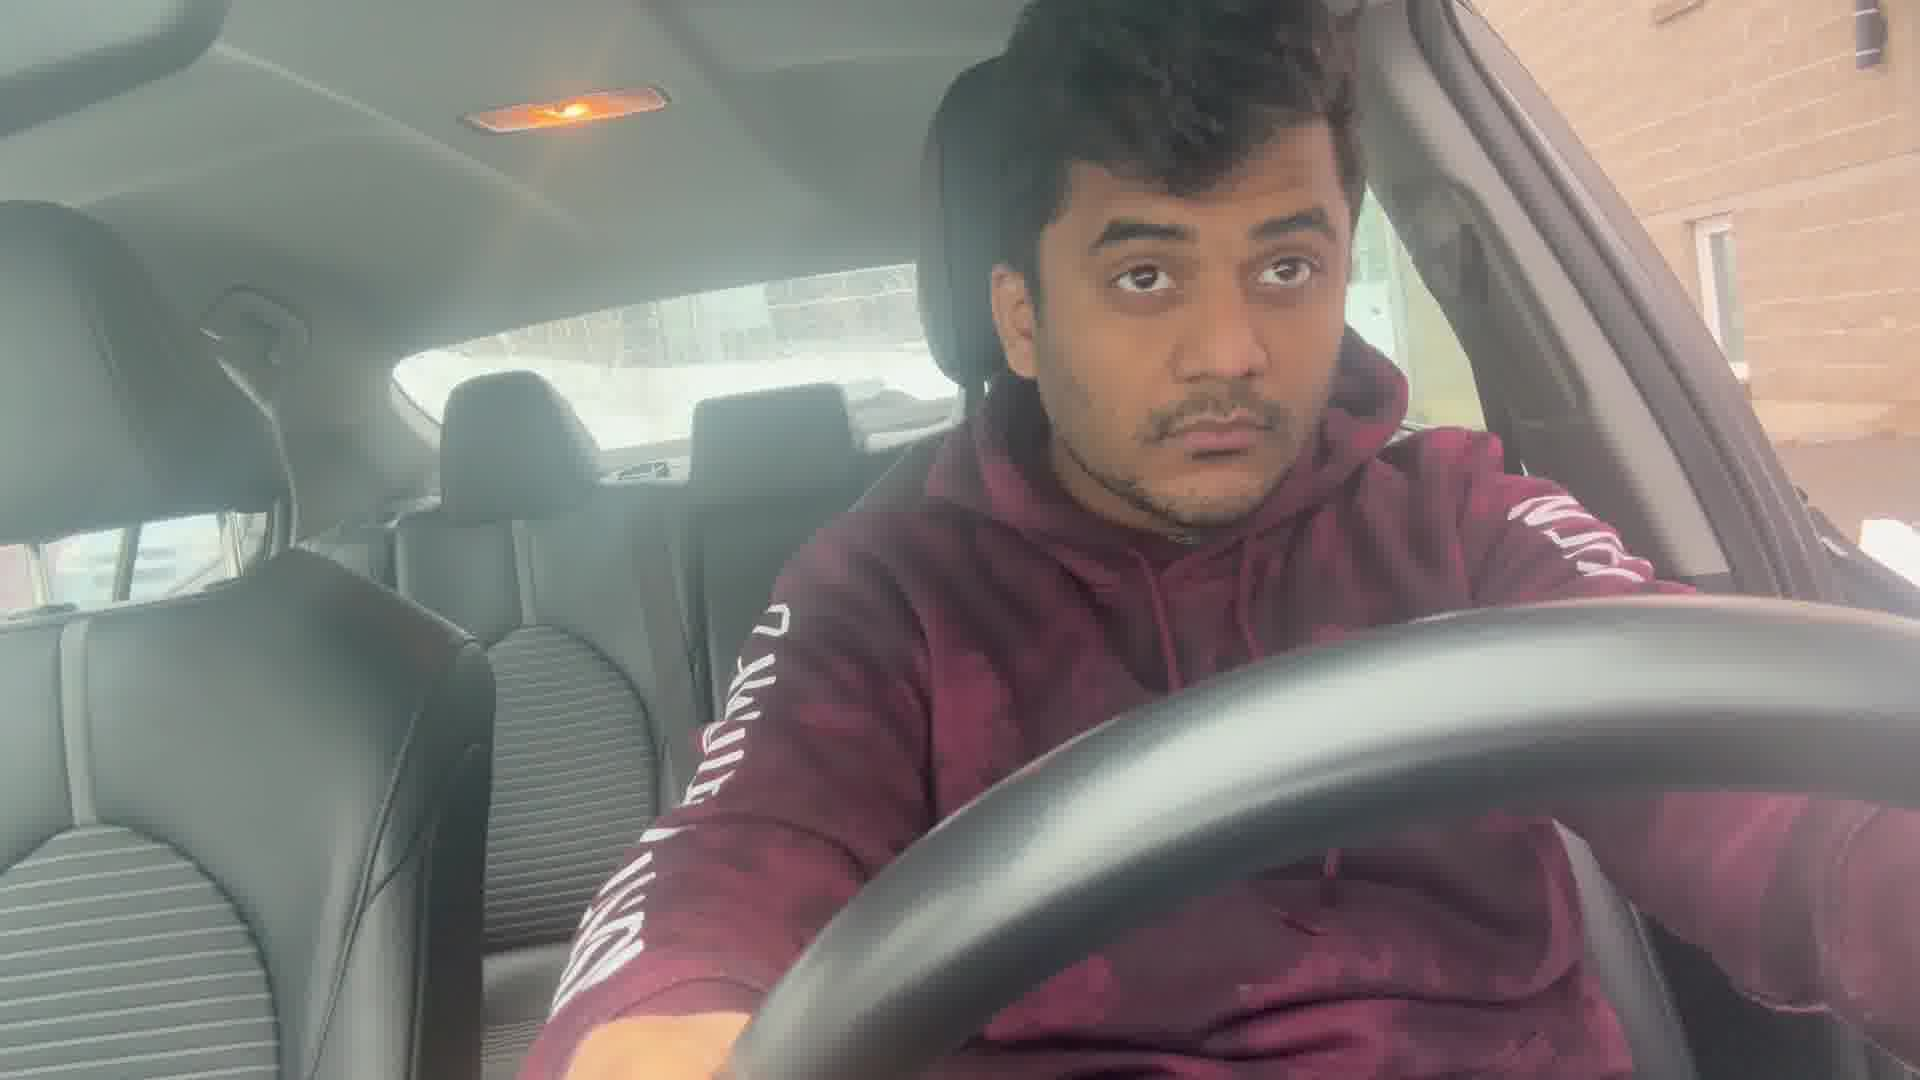no_seatbelt: (878, 178, 1532, 903)
